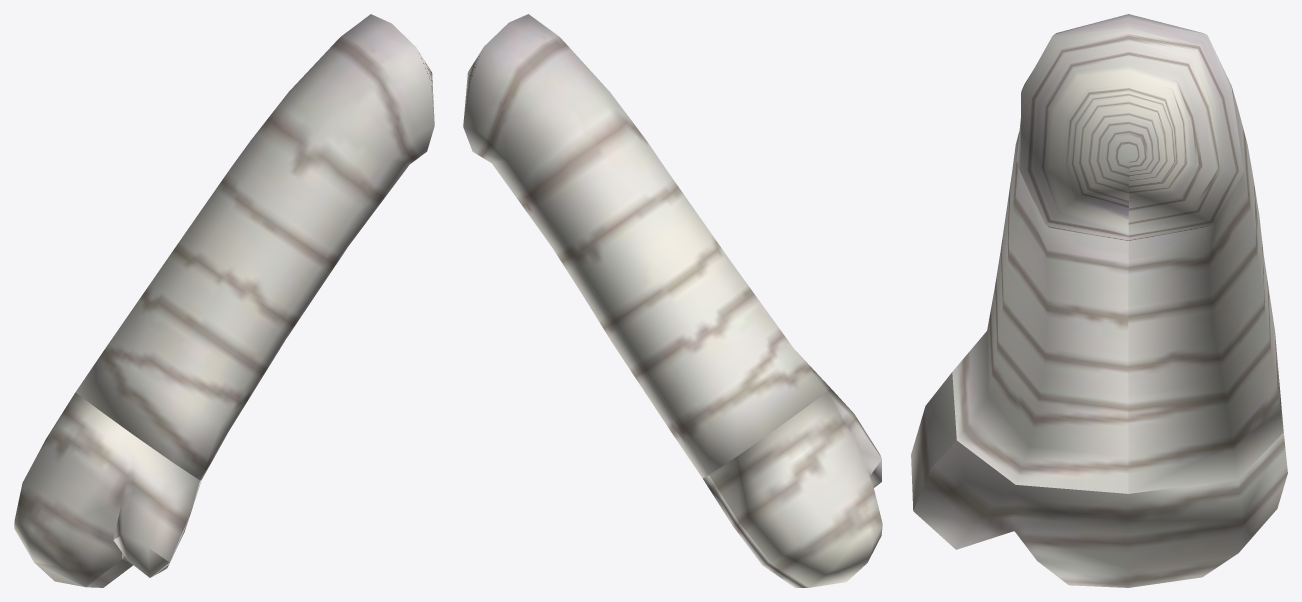
File: right_arm-2_townie_spooky_mel_mummy.blend.obj
3 views of the same model, side by side, from view 1: azimuth 30°, elevation 25°; view 2: azimuth 150°, elevation 25°; view 3: azimuth 270°, elevation 25° (orthographic). The views are drawn at different scales.
Parts seen in each view (by area): view 1: right_arm-2_townie_spooky_mel_mummy.blend_defaultobject.002_mesh; view 2: right_arm-2_townie_spooky_mel_mummy.blend_defaultobject.002_mesh; view 3: right_arm-2_townie_spooky_mel_mummy.blend_defaultobject.002_mesh.
Boxes of the visible parts, x1,y1,x2,y2 form: right_arm-2_townie_spooky_mel_mummy.blend_defaultobject.002_mesh: (14,14,434,587); right_arm-2_townie_spooky_mel_mummy.blend_defaultobject.002_mesh: (463,14,882,587); right_arm-2_townie_spooky_mel_mummy.blend_defaultobject.002_mesh: (911,14,1287,587).
Bounding box in the file's own units: 0.3909 × 0.446 × 0.1832.
Materials: 1 (1 with a texture image).
